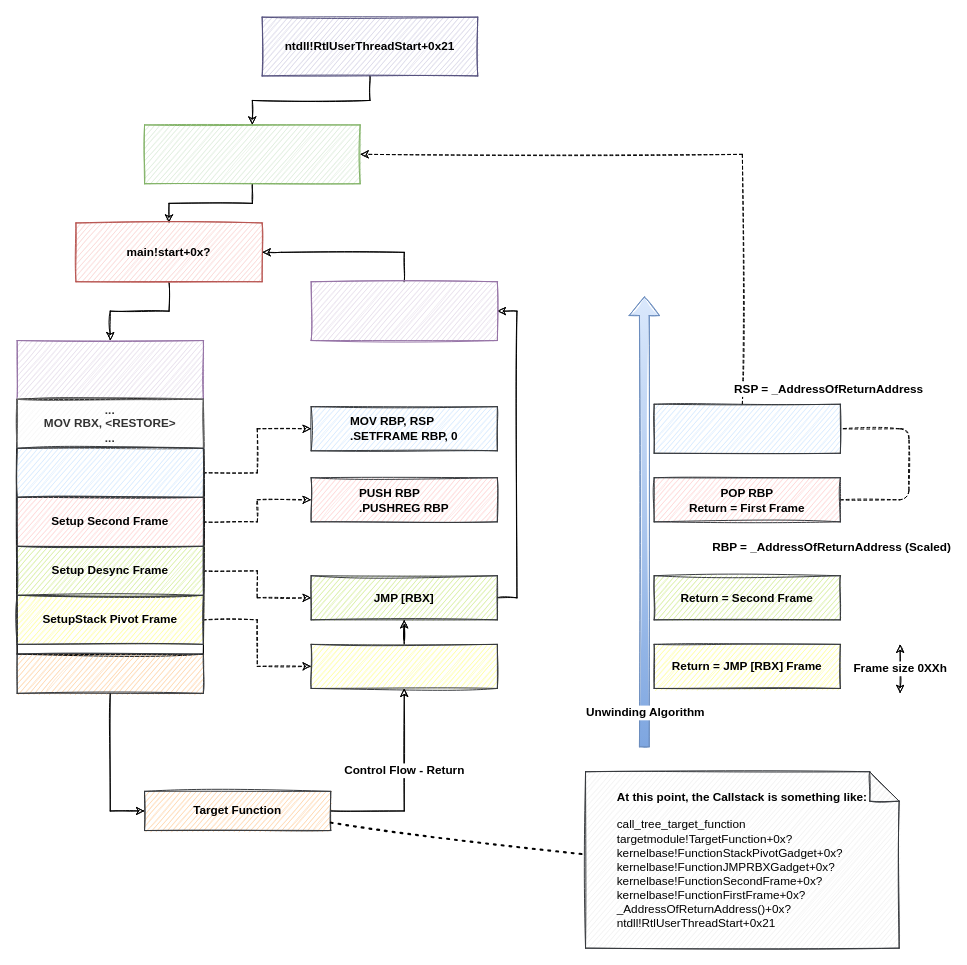
This 967x965 diagram has some shape labels left out. The shapes that lost their labels are listed below. From the top down, each one's box as (x1, y1, x2, y2) in pixels, then its label:
(144, 124, 360, 184): kernel32!BaseThreadInitThunk+0x14
(310, 281, 497, 341): main!restore
(16, 340, 203, 399): main!spoof_call+0x?
(653, 403, 840, 453): MOV RSP, RBP Return = _AddressOfReturnAddress
(16, 447, 203, 497): Setup First Frame
(16, 653, 203, 693): JMP <fptr>
(310, 643, 497, 688): ADD RSP, 0XXh
